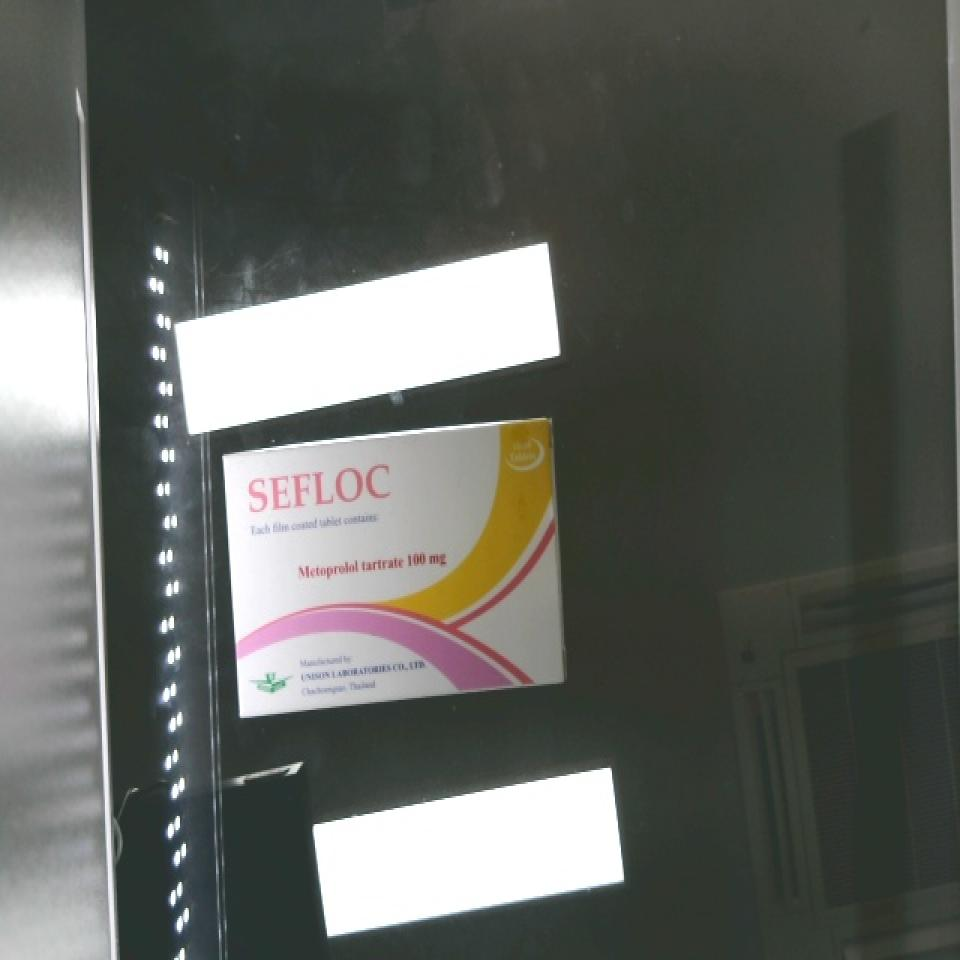medicine_box: (219, 420, 576, 715)
medicine_label_obb: (222, 438, 407, 521)
